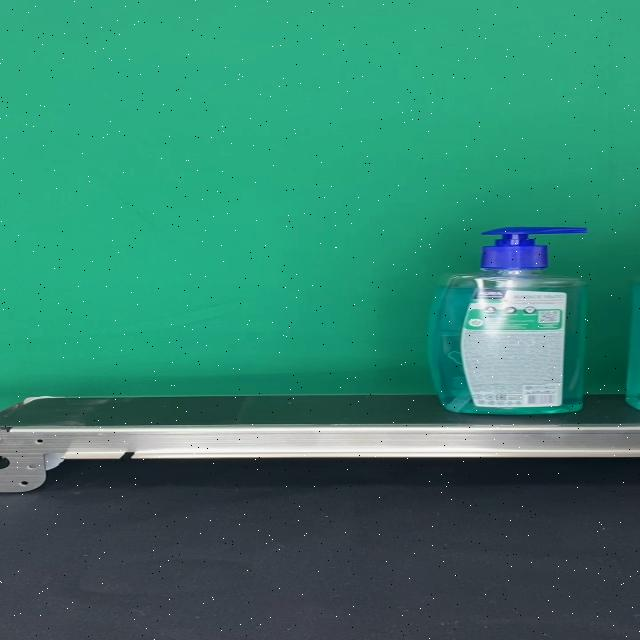Bottle: (426, 226, 589, 415)
Cap: (480, 226, 588, 268)
